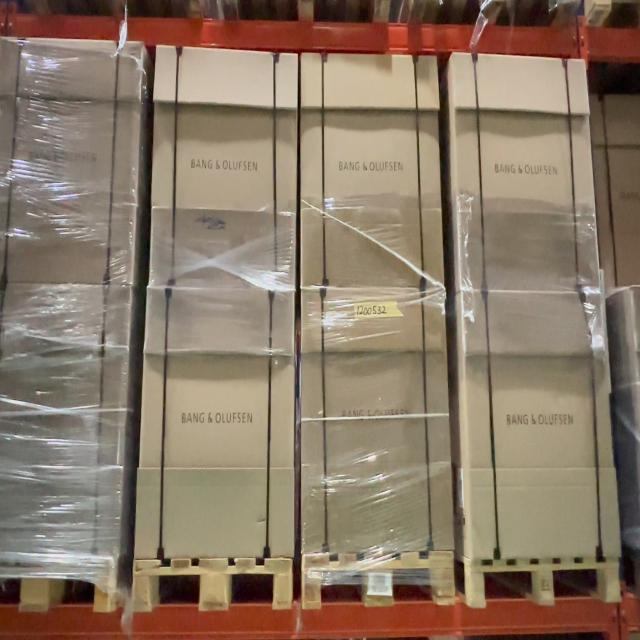box: (134, 284, 295, 557), (464, 293, 622, 561), (299, 288, 453, 551), (150, 45, 297, 286), (451, 55, 601, 287), (300, 53, 446, 290)
